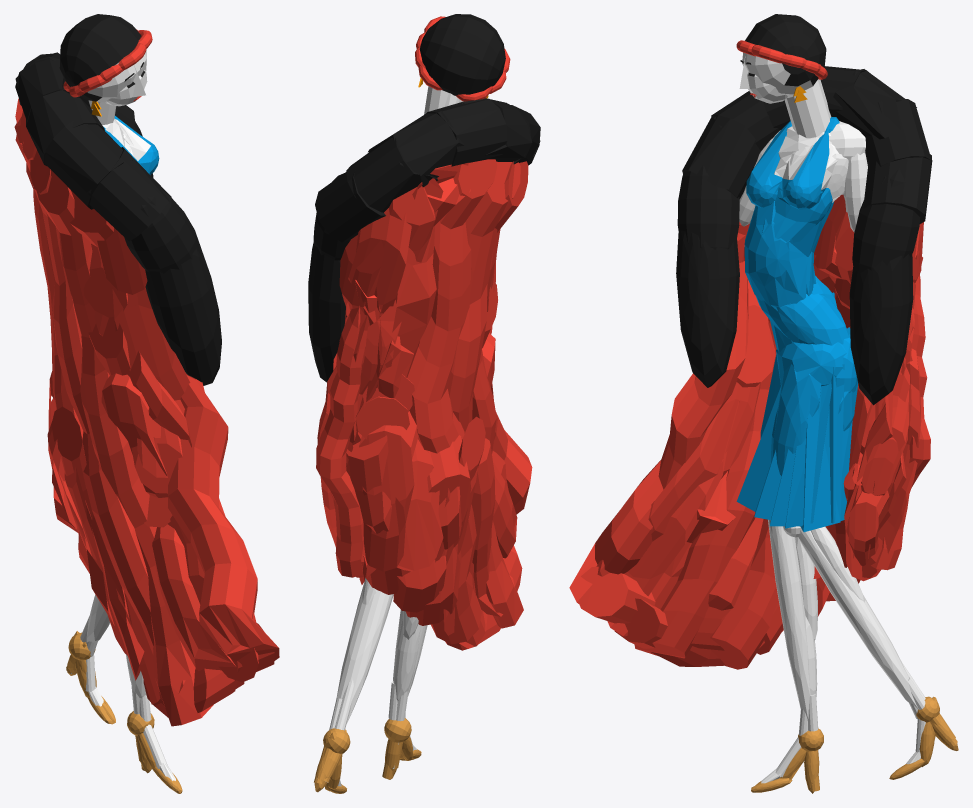
File: cand_dame1930_franck.glb
3 renders of one model, left to right at view 1: azimuth 30°, elevation 25°; view 2: azimuth 150°, elevation 25°; view 3: azimuth 270°, elevation 25°, orthographic. The views are drawn at different scales.
Visible parts, largest first — view 1: group2138476108, group8628649, group238833711, group2054222559, group2057810329, group232805917, group1750695123, group1650622381, group1054721900, group1253008869, group827564722, group308877122 (+19 smaller); view 2: group1253008869, group238833711, group505528800, group1870079262, group232805917, group597154958, group2138476108, group1744399614, group1387396791, group5856058, group1041731532, group2053362431 (+28 smaller); view 3: group8628649, group2138476108, group2057810329, group1744399614, group615040052, group42513239, group1253008869, group2054222559, group232805917, group1446567687, group1750695123, group502913200 (+41 smaller).
Boxes of the visible parts, left/top/right/bottom form: group2138476108: left=34, top=163, right=213, bottom=726; group8628649: left=168, top=372, right=279, bottom=661; group238833711: left=30, top=150, right=185, bottom=700; group2054222559: left=94, top=311, right=244, bottom=688; group2057810329: left=145, top=198, right=221, bottom=385; group232805917: left=59, top=14, right=146, bottom=102; group1750695123: left=80, top=147, right=171, bottom=241; group1650622381: left=42, top=121, right=132, bottom=209; group1054721900: left=112, top=287, right=190, bottom=400; group1253008869: left=21, top=111, right=160, bottom=704; group827564722: left=124, top=191, right=200, bottom=273; group308877122: left=70, top=190, right=127, bottom=317; group1253008869: left=406, top=159, right=497, bottom=650; group238833711: left=447, top=161, right=520, bottom=616; group505528800: left=377, top=162, right=481, bottom=644; group1870079262: left=316, top=280, right=380, bottom=577; group232805917: left=419, top=14, right=505, bottom=95; group597154958: left=359, top=411, right=418, bottom=571; group2138476108: left=472, top=161, right=528, bottom=628; group1744399614: left=308, top=243, right=346, bottom=382; group1387396791: left=387, top=439, right=443, bottom=571; group5856058: left=346, top=137, right=437, bottom=212; group1041731532: left=348, top=208, right=411, bottom=313; group2053362431: left=426, top=98, right=507, bottom=166; group8628649: left=569, top=233, right=748, bottom=608; group2138476108: left=634, top=318, right=776, bottom=658; group2057810329: left=676, top=176, right=739, bottom=387; group1744399614: left=849, top=254, right=913, bottom=405; group615040052: left=596, top=382, right=760, bottom=576; group42513239: left=744, top=201, right=822, bottom=307; group1253008869: left=710, top=519, right=778, bottom=669; group2054222559: left=607, top=222, right=775, bottom=636; group232805917: left=742, top=14, right=826, bottom=97; group1446567687: left=768, top=519, right=810, bottom=719; group1750695123: left=682, top=115, right=760, bottom=199; group502913200: left=797, top=526, right=918, bottom=709.
Bounding box in the file's own units: 0.6944 × 3.07 × 1.45.
